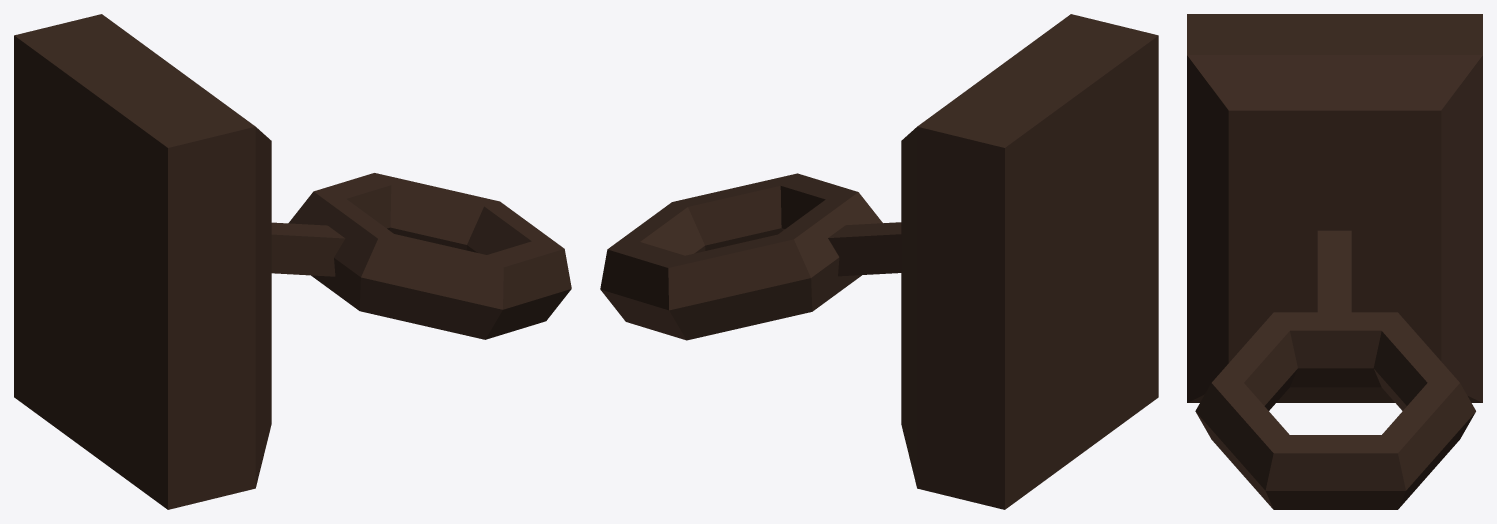
File: envi_torch.fbx
The picture shows the model from 3 angles, left to right: view 1: azimuth 30°, elevation 25°; view 2: azimuth 150°, elevation 25°; view 3: azimuth 270°, elevation 25°; orthographic projection. The views are drawn at different scales.
Parts seen in each view (by area): view 1: pCube14; view 2: pCube14; view 3: pCube14.
Boxes of the visible parts, box(x1,y1,x2,y2) form: pCube14: box(14, 14, 571, 509); pCube14: box(600, 14, 1158, 509); pCube14: box(1187, 14, 1482, 509).
Bounding box in the file's own units: 0.918 × 0.714 × 0.5503.
